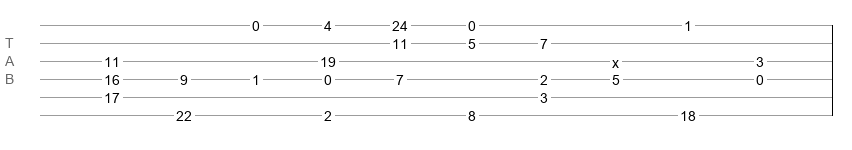0: (252, 18, 260, 28), (324, 72, 332, 82), (468, 18, 476, 28), (756, 72, 764, 82)
1: (252, 72, 260, 82), (684, 18, 692, 28)
11: (104, 54, 120, 64), (392, 36, 408, 46)
16: (104, 72, 120, 82)
17: (104, 90, 120, 100)
18: (680, 108, 696, 118)
19: (320, 54, 336, 64)
2: (324, 108, 332, 118), (540, 72, 548, 82)
22: (176, 108, 192, 118)
24: (392, 18, 408, 28)
3: (540, 90, 548, 100), (756, 54, 764, 64)
4: (324, 18, 332, 28)
5: (468, 36, 476, 46), (612, 72, 620, 82)
7: (396, 72, 404, 82), (540, 36, 548, 46)
8: (468, 108, 476, 118)
9: (180, 72, 188, 82)
x: (612, 55, 619, 63)
